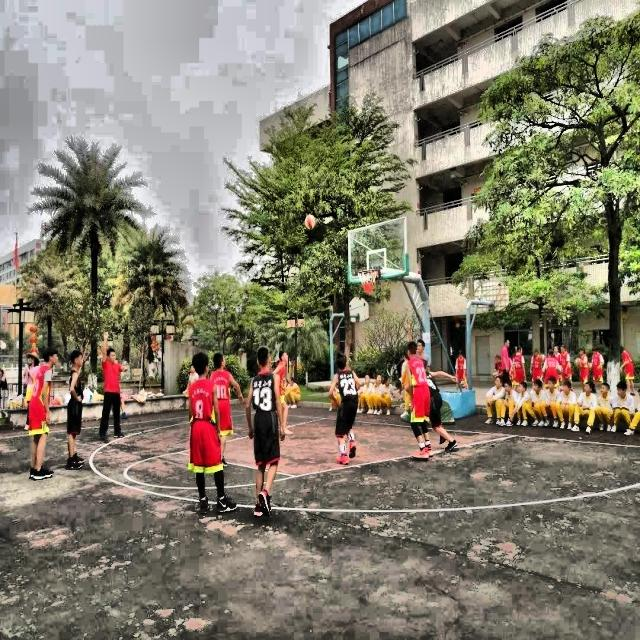board: (305, 214, 317, 232)
rim: (356, 268, 381, 293)
